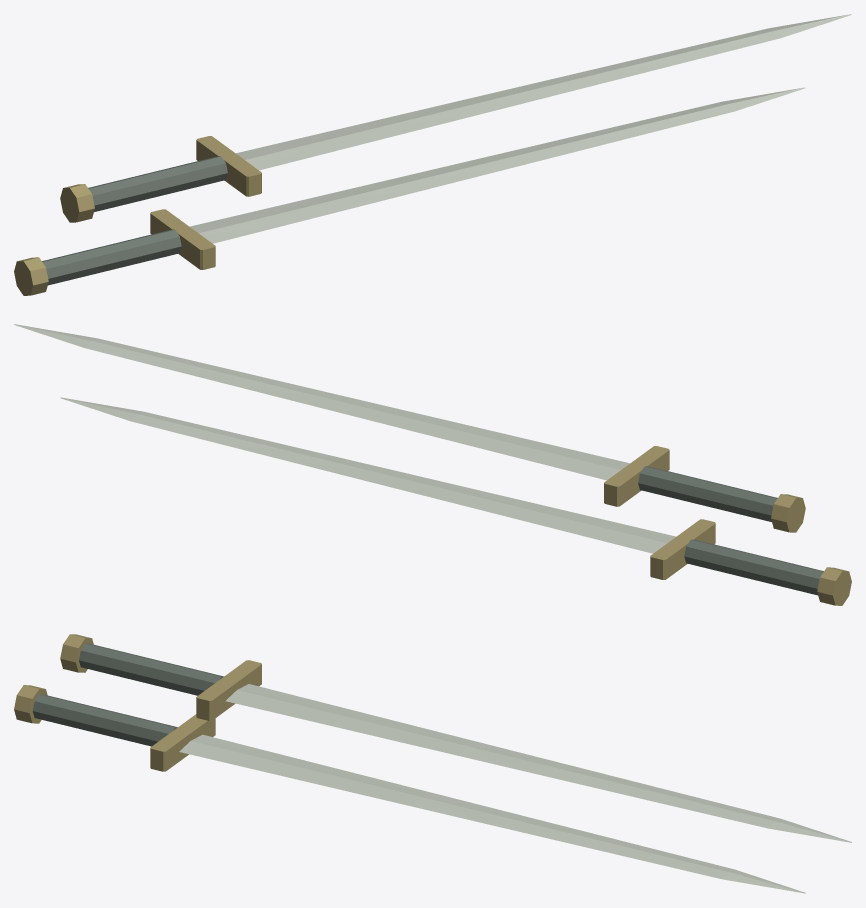
File: weapon-jian.glb
The picture shows the model from 3 angles, top to bottom: view 1: azimuth 30°, elevation 25°; view 2: azimuth 150°, elevation 25°; view 3: azimuth 330°, elevation 25°; orthographic projection.
Parts seen in each view (by area): view 1: weapon-jian/faceted-distinct-blade-first, weapon-jian/faceted-distinct-blade-second, weapon-jian/eight-sided-handle-first, weapon-jian/eight-sided-handle-second, weapon-jian/transverse-crossguard-first, weapon-jian/transverse-crossguard-second, weapon-jian/handle-end-pommel-first, weapon-jian/handle-end-pommel-second; view 2: weapon-jian/faceted-distinct-blade-first, weapon-jian/faceted-distinct-blade-second, weapon-jian/eight-sided-handle-first, weapon-jian/eight-sided-handle-second, weapon-jian/transverse-crossguard-first, weapon-jian/transverse-crossguard-second, weapon-jian/handle-end-pommel-first, weapon-jian/handle-end-pommel-second; view 3: weapon-jian/faceted-distinct-blade-first, weapon-jian/faceted-distinct-blade-second, weapon-jian/eight-sided-handle-second, weapon-jian/eight-sided-handle-first, weapon-jian/transverse-crossguard-first, weapon-jian/transverse-crossguard-second, weapon-jian/handle-end-pommel-first, weapon-jian/handle-end-pommel-second.
Part boxes in pixels (box(x1,y1,x2,y2)): weapon-jian/faceted-distinct-blade-first: box(236, 14, 851, 170); weapon-jian/faceted-distinct-blade-second: box(190, 87, 805, 243); weapon-jian/eight-sided-handle-first: box(88, 156, 227, 211); weapon-jian/eight-sided-handle-second: box(42, 229, 181, 285); weapon-jian/transverse-crossguard-first: box(196, 136, 261, 196); weapon-jian/transverse-crossguard-second: box(150, 209, 215, 269); weapon-jian/handle-end-pommel-first: box(60, 184, 94, 222); weapon-jian/handle-end-pommel-second: box(14, 257, 48, 295); weapon-jian/faceted-distinct-blade-first: box(14, 324, 629, 480); weapon-jian/faceted-distinct-blade-second: box(60, 397, 675, 553); weapon-jian/eight-sided-handle-first: box(638, 466, 777, 521); weapon-jian/eight-sided-handle-second: box(684, 539, 823, 595); weapon-jian/transverse-crossguard-first: box(604, 446, 669, 506); weapon-jian/transverse-crossguard-second: box(650, 519, 715, 579); weapon-jian/handle-end-pommel-first: box(771, 494, 805, 532); weapon-jian/handle-end-pommel-second: box(817, 567, 851, 605); weapon-jian/faceted-distinct-blade-first: box(225, 684, 851, 842); weapon-jian/faceted-distinct-blade-second: box(179, 734, 805, 893); weapon-jian/eight-sided-handle-second: box(32, 694, 177, 746); weapon-jian/eight-sided-handle-first: box(79, 643, 223, 695); weapon-jian/transverse-crossguard-first: box(196, 660, 261, 720); weapon-jian/transverse-crossguard-second: box(150, 714, 215, 771); weapon-jian/handle-end-pommel-first: box(60, 634, 93, 672); weapon-jian/handle-end-pommel-second: box(14, 685, 47, 723).
Bounding box in the file's own units: 0.95 × 0.106 × 0.103.
Materials: 3 (3 with a texture image).
